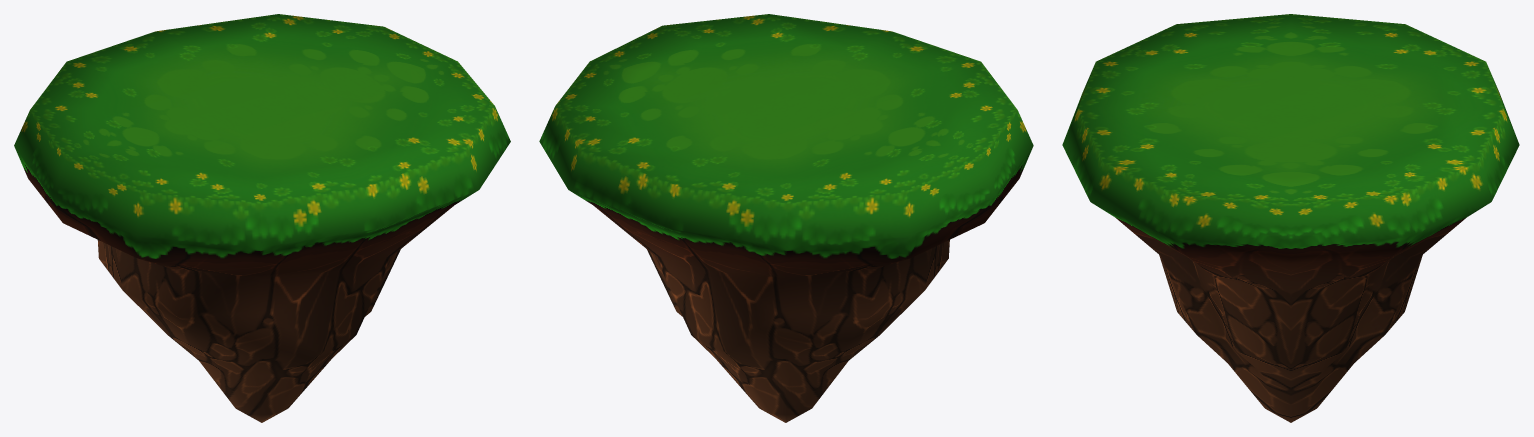
Rendered from Green_Island_01.FBX.
The picture shows the model from 3 angles, left to right: view 1: azimuth 30°, elevation 25°; view 2: azimuth 150°, elevation 25°; view 3: azimuth 270°, elevation 25°; orthographic projection.
Parts seen in each view (by area): view 1: Green_Island_01; view 2: Green_Island_01; view 3: Green_Island_01.
Part boxes in pixels (bbox=[...]): Green_Island_01: bbox=[14, 14, 510, 422]; Green_Island_01: bbox=[539, 14, 1033, 422]; Green_Island_01: bbox=[1062, 14, 1519, 422].
Size of the model in its own units: 1823 by 1312 by 1724.
